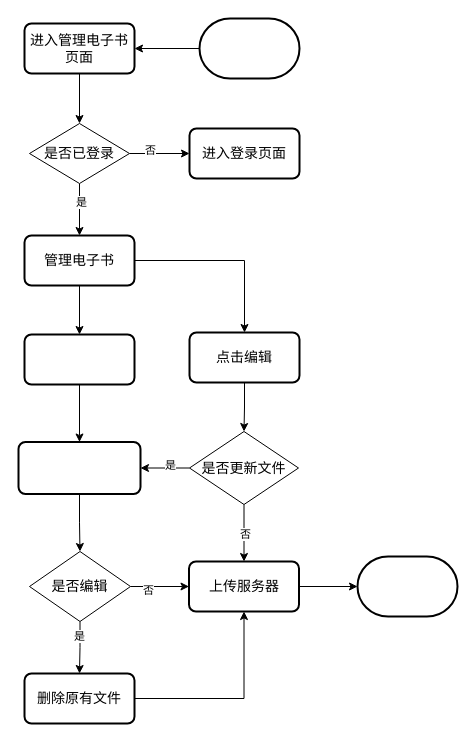
Some shapes in this 475 by 741 pixel diagram are drawn without their labels. Each missing label, with the centre of its shape:
"开始" belongs at point 249,48.
"本地缓存Pdf或Epub文件" belongs at point 79,467.
"点击新增" belongs at point 79,359.
"结束" belongs at point 407,586.
